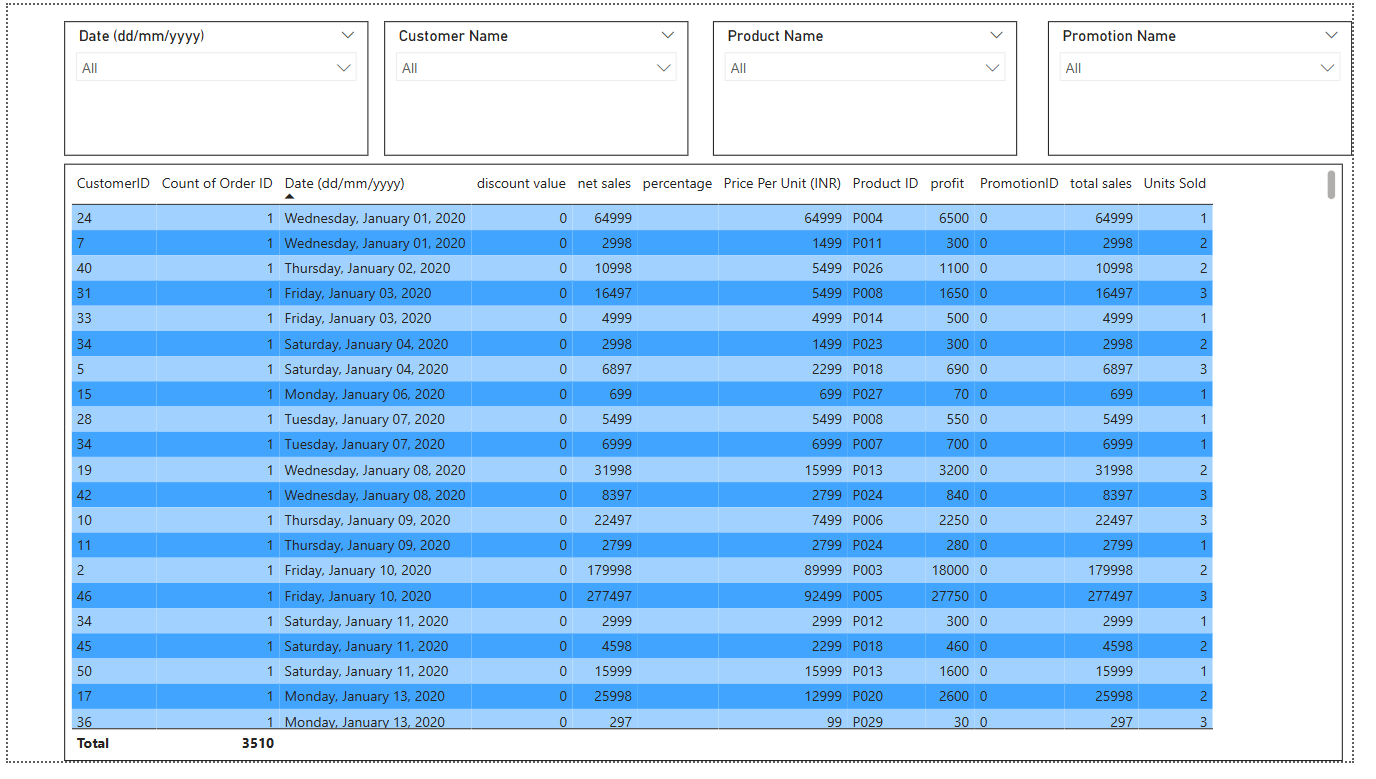

What the dashboard file says about the page in this screenshot:
{"tool":"powerbi","page":{"name":"Table Visuals","canvas":[1280,720],"ordinal":4},"visuals":[{"type":"tableEx","fields":{"Values":["fact table.CustomerID","CountNonNull(fact table.Order ID)","fact table.Date (dd/mm/yyyy)","fact table.discount value","fact table.net sales","fact table.percentage","fact table.Price Per Unit (INR)","fact table.Product ID","fact table.profit","fact table.PromotionID","fact table.total sales","fact table.Units Sold"]},"box":[53.5,151.2,1217.4,568.6],"z":1},{"type":"slicer","fields":{"Values":["fact table.Date (dd/mm/yyyy)"]},"box":[53.5,15.1,289.5,127.9],"z":2},{"type":"slicer","fields":{"Values":["Dim Customers.Customer Name"]},"box":[358.1,15.1,289.5,127.9],"z":3},{"type":"slicer","fields":{"Values":["Dim Product.Product Name"]},"box":[670.9,15.1,289.5,127.9],"z":4},{"type":"slicer","fields":{"Values":["Dim Promotion.Promotion Name"]},"box":[990.7,15.1,289.5,127.9],"z":5}]}

Visuals, with their boxes in screenshot pixels (x1, y1, x2, y2), scaled from the page's 1280x720 canvas onto the 1376x779 screenshot:
tableEx - fact table.CustomerID x CountNonNull(fact table.Order ID): <region>58, 164, 1366, 778</region>
slicer - fact table.Date (dd/mm/yyyy): <region>58, 16, 369, 155</region>
slicer - Dim Customers.Customer Name: <region>385, 16, 696, 155</region>
slicer - Dim Product.Product Name: <region>721, 16, 1032, 155</region>
slicer - Dim Promotion.Promotion Name: <region>1065, 16, 1375, 155</region>
